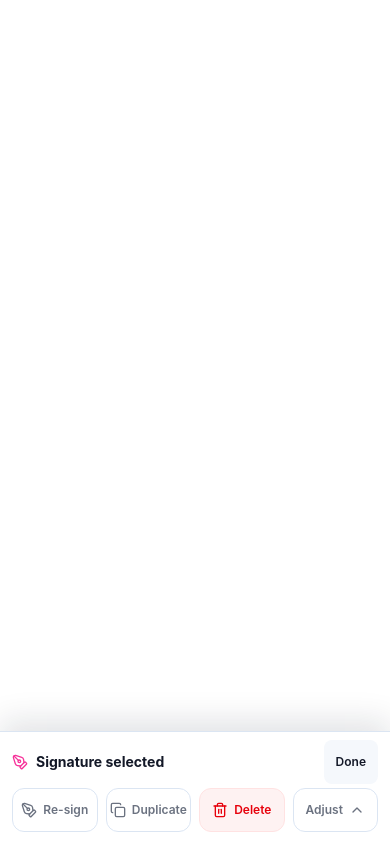
Test case: MobileFieldSheet compact behaviour › shows Re-sign for signed signature fields and signature adjustments only after expanding
The image size is (390, 844).
Expected: the button with test id "mobile-field-sign" reads "Re-sign", [12,788,98,832]
Click the button with test id "mobile-field-adjust-toggle".
click(335, 810)  # box [292,788,378,832]
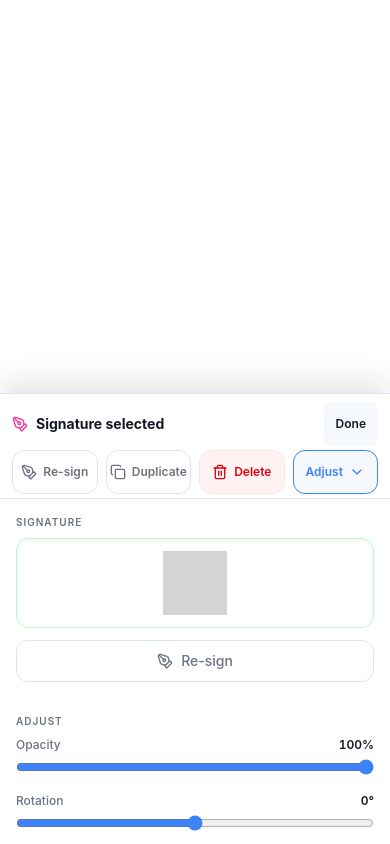
Result: the slider named "Signature opacity" is shown at [16,759,374,775]
